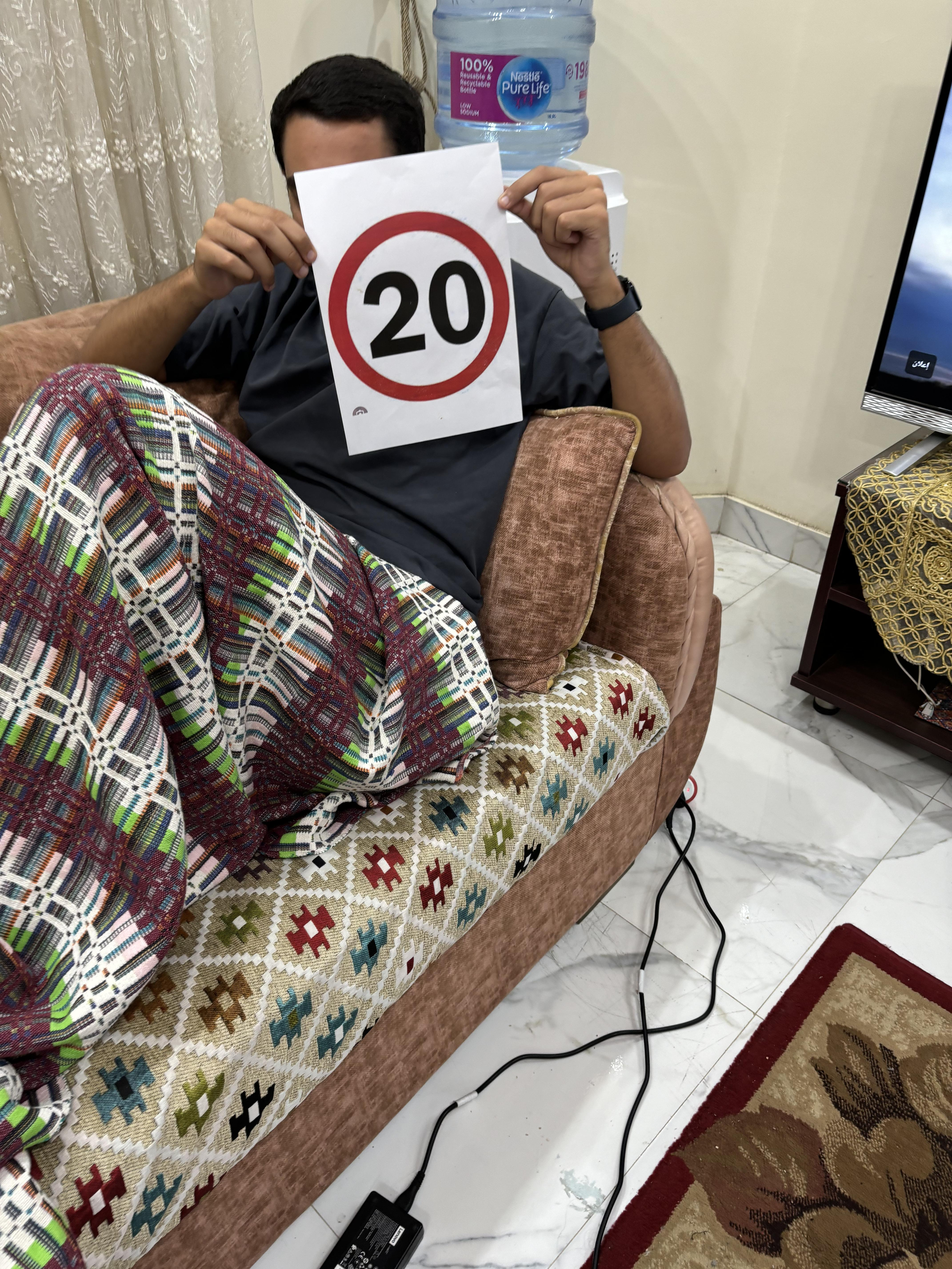20-Speed: (323, 203, 513, 394)
